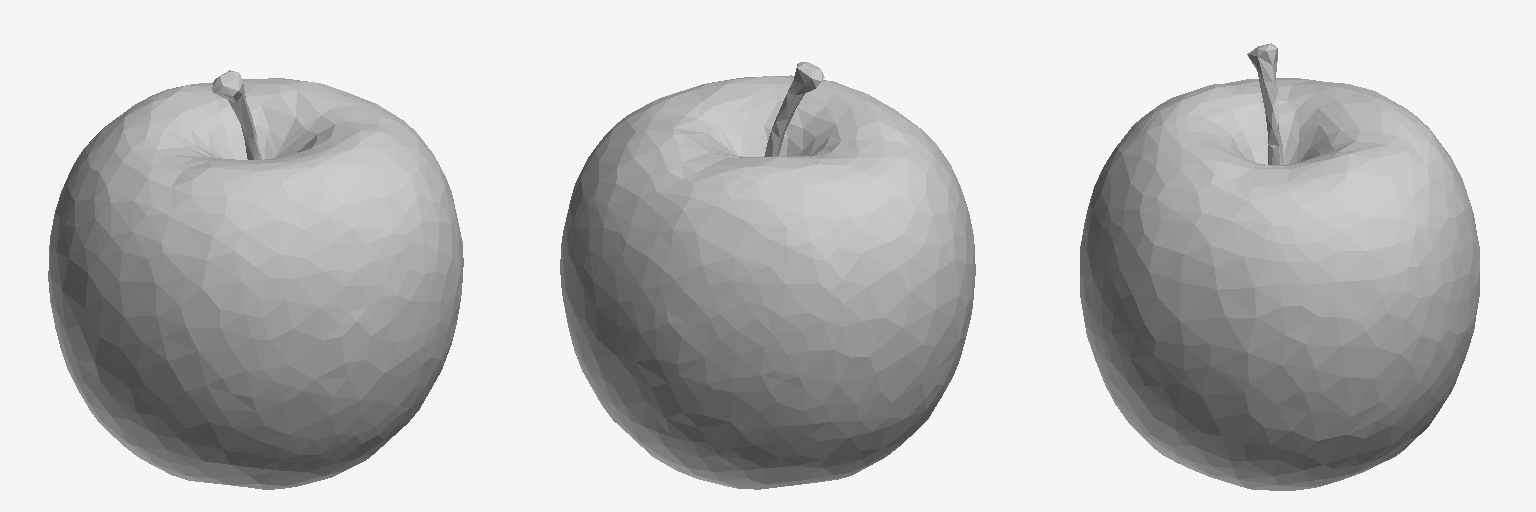
File: apple.obj
3 views of the same model, side by side, from view 1: azimuth 30°, elevation 25°; view 2: azimuth 150°, elevation 25°; view 3: azimuth 270°, elevation 25° (orthographic).
Visible parts, largest first — view 1: An_apple_[number redacted]_texture; view 2: An_apple_[number redacted]_texture; view 3: An_apple_[number redacted]_texture.
Boxes of the visible parts, <box> form: An_apple_[number redacted]_texture: <box>48,70,463,489</box>; An_apple_[number redacted]_texture: <box>560,62,975,489</box>; An_apple_[number redacted]_texture: <box>1080,43,1479,490</box>.
Bounding box in the file's own units: 1.85 × 1.91 × 1.77.